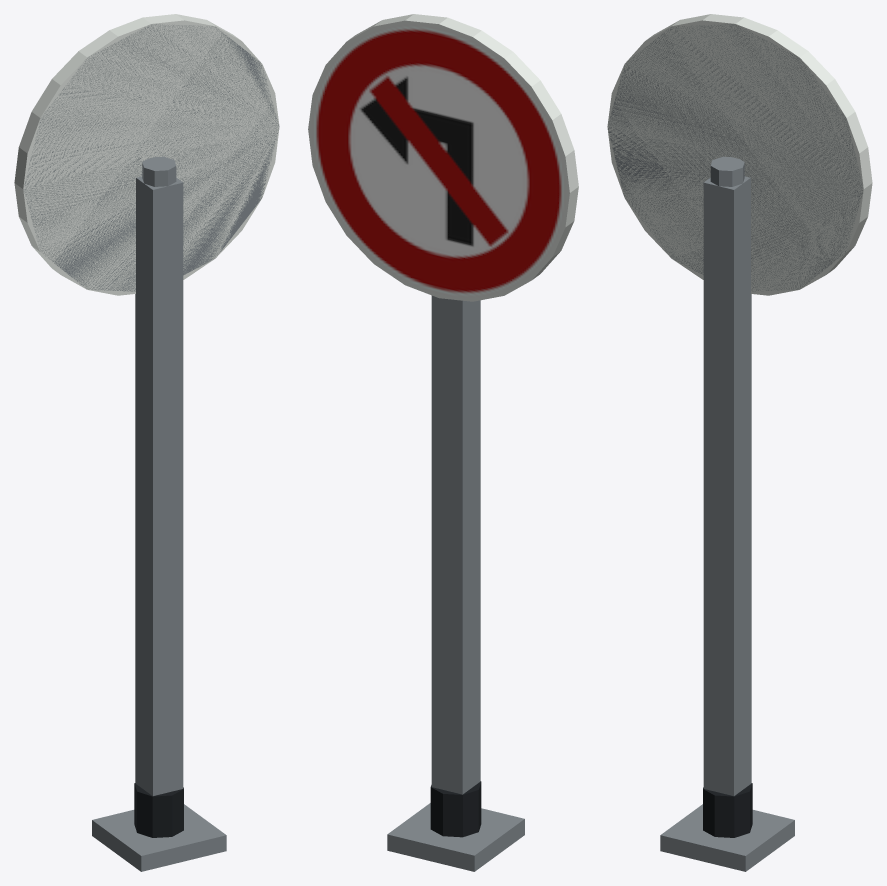
The model's file is no-left-turn-sign.glb.
3 renders of one model, left to right at view 1: azimuth 30°, elevation 25°; view 2: azimuth 150°, elevation 25°; view 3: azimuth 330°, elevation 25°, orthographic. The views are drawn at different scales.
Visible parts, largest first — view 1: no-left-turn-sign (×2); view 2: no-left-turn-sign (×2); view 3: no-left-turn-sign (×2).
Part boxes in pixels (left/top/right/bottom): no-left-turn-sign (×2): left=14, top=14, right=279, bottom=871; no-left-turn-sign (×2): left=308, top=14, right=578, bottom=871; no-left-turn-sign (×2): left=607, top=14, right=872, bottom=871.
Bounding box in the file's own units: 2.35 × 7.14 × 0.784.
Materials: 4 (1 with a texture image).
